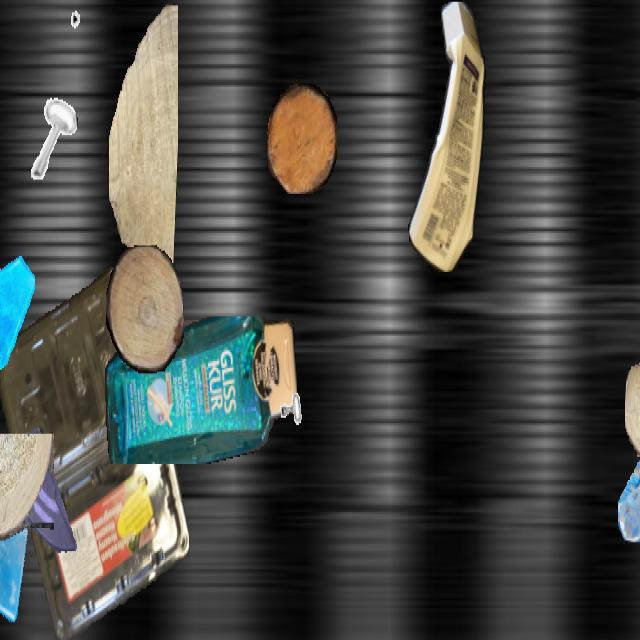glass: (2, 416, 82, 558), (0, 489, 32, 638), (0, 247, 34, 368), (618, 439, 640, 542)
metal: (27, 92, 77, 182), (271, 351, 315, 428), (70, 2, 110, 73)
plastic: (0, 265, 189, 638), (105, 316, 297, 462), (402, 2, 490, 272)
wood: (109, 1, 177, 282), (106, 245, 184, 374), (267, 84, 337, 194), (0, 434, 54, 540), (625, 350, 640, 457)
